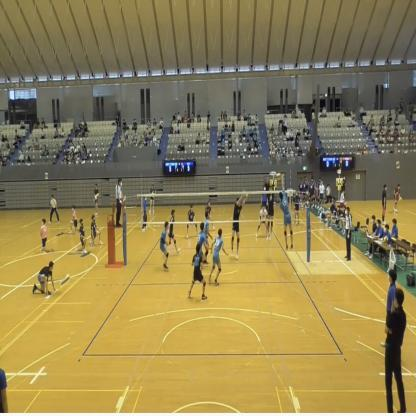spike: (273, 172, 296, 254)
